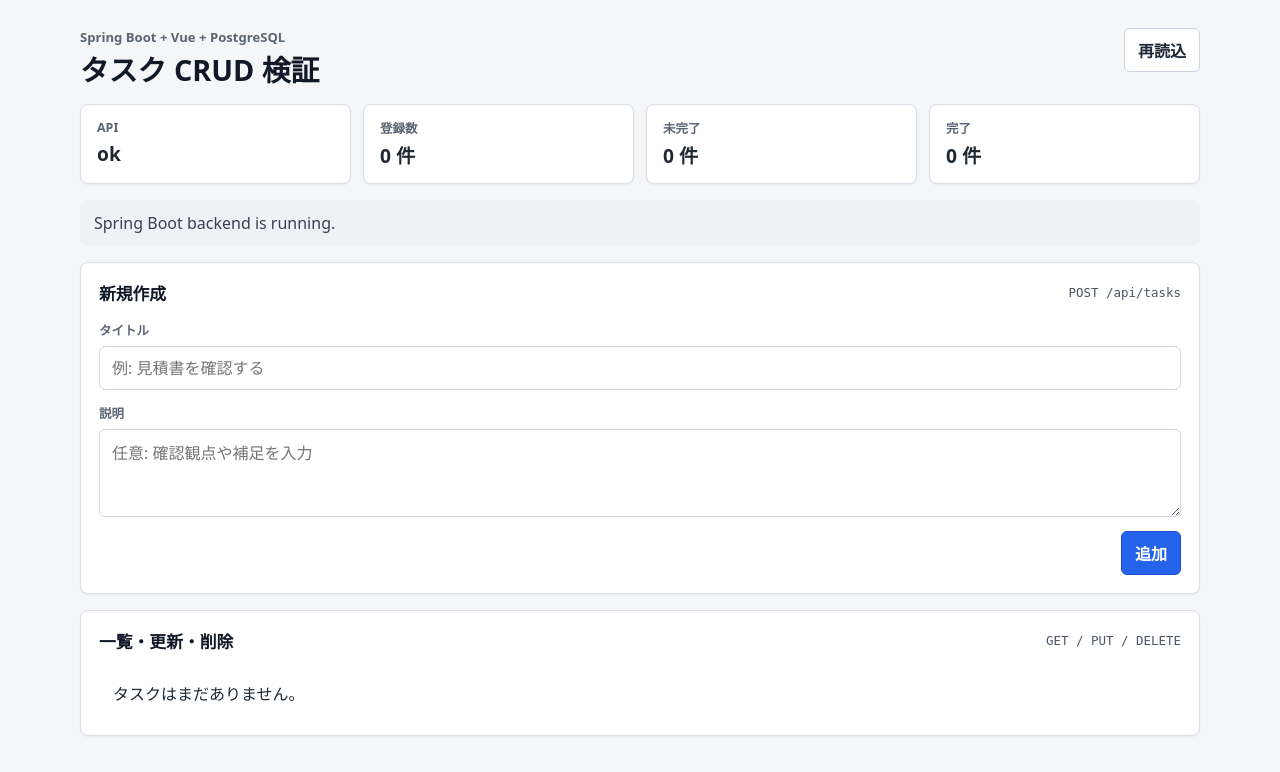
Scenario: App › 新規タスクを追加し、成功通知と一覧反映を表示する
This screenshot has width=1280, height=772.
Type "追加タスク" into the field labelled "タイトル" at (640, 368), box [99,346,1181,390]
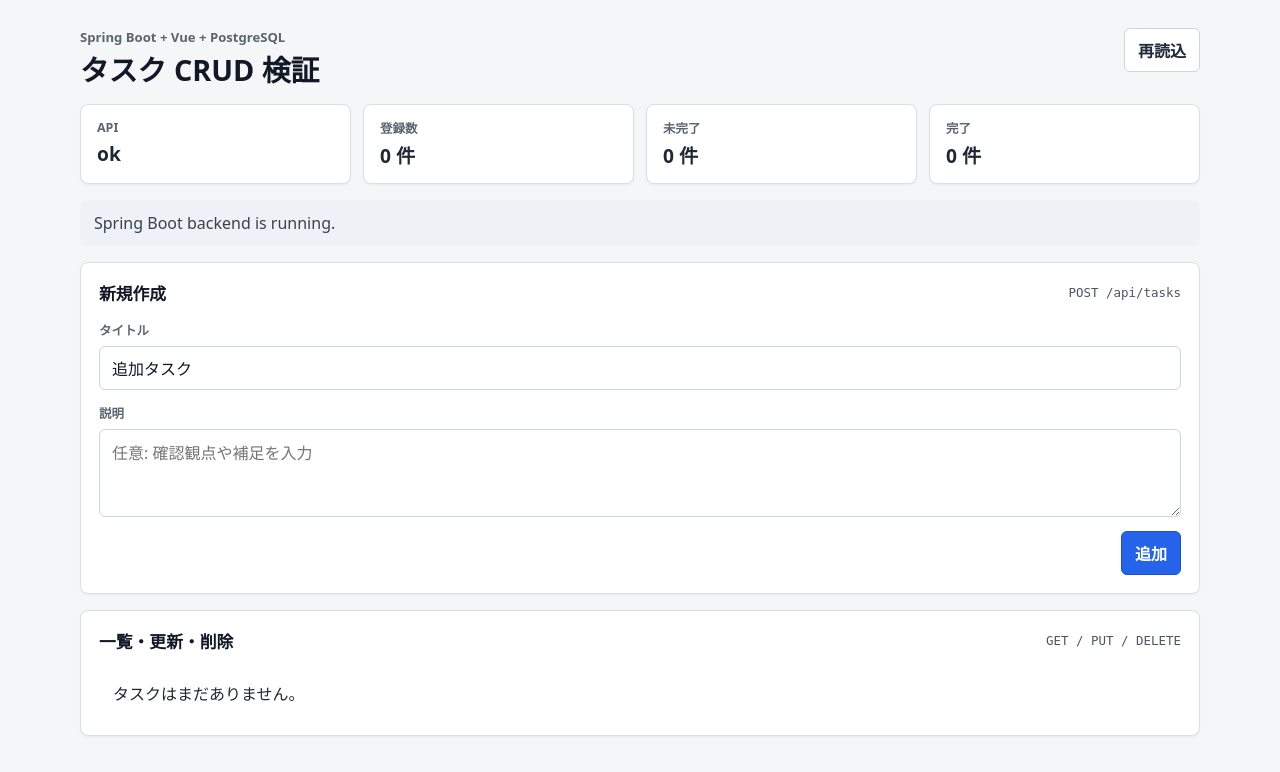
Type "追加処理の検証" into the text box with class "textarea" at (640, 473), box [99,429,1181,517]
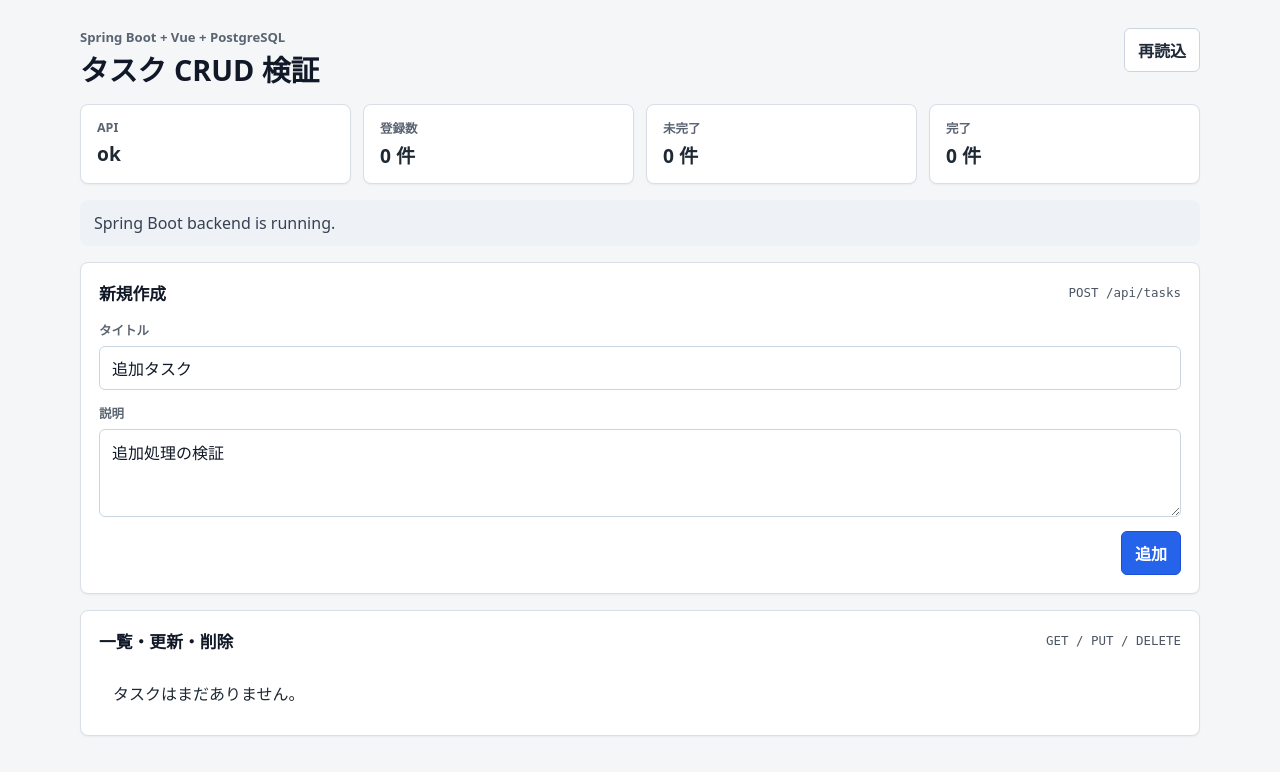
Submit the form with class "task-form", box [99,321,1181,575]
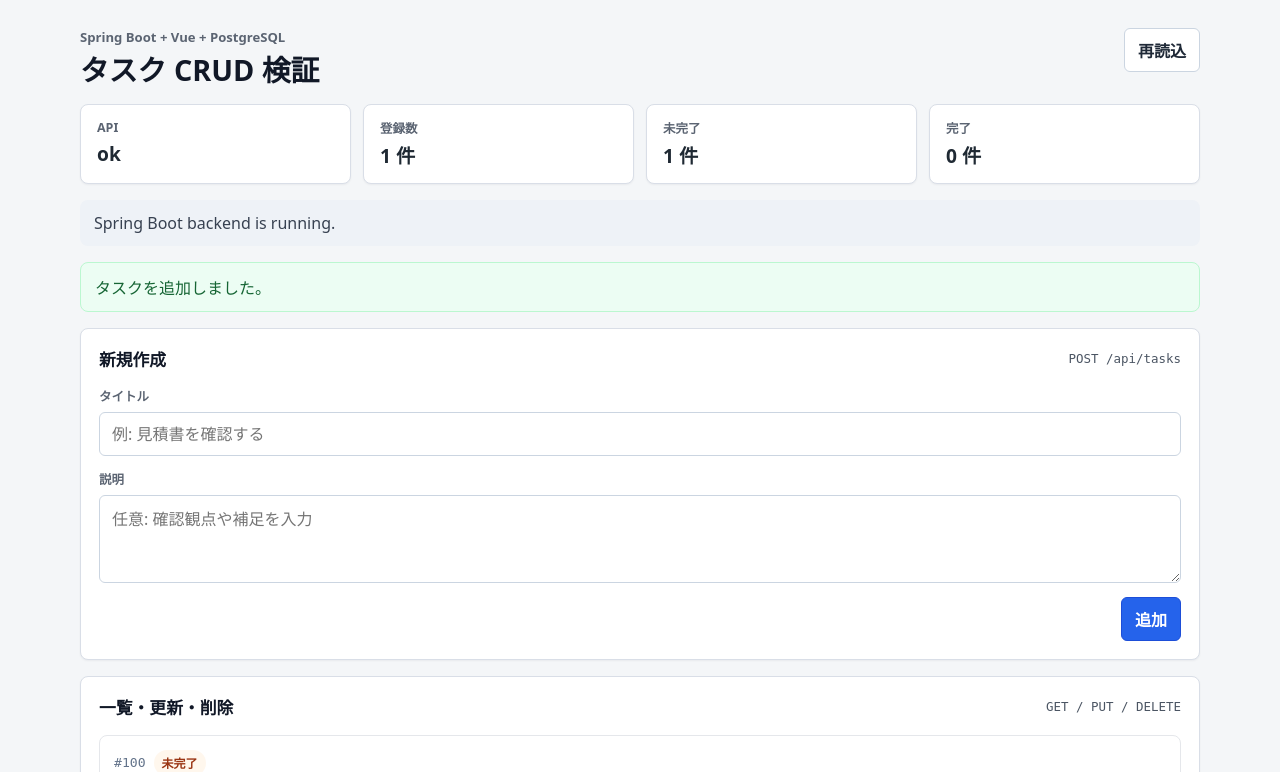
Now the text with class "alert--success" reads "タスクを追加しました。", box [95,277,271,299]
